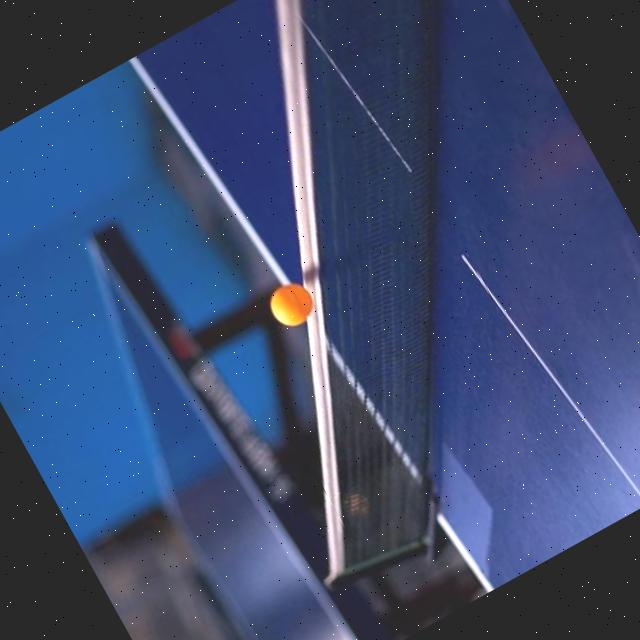ping-pong-ball: (262, 277, 320, 333)
